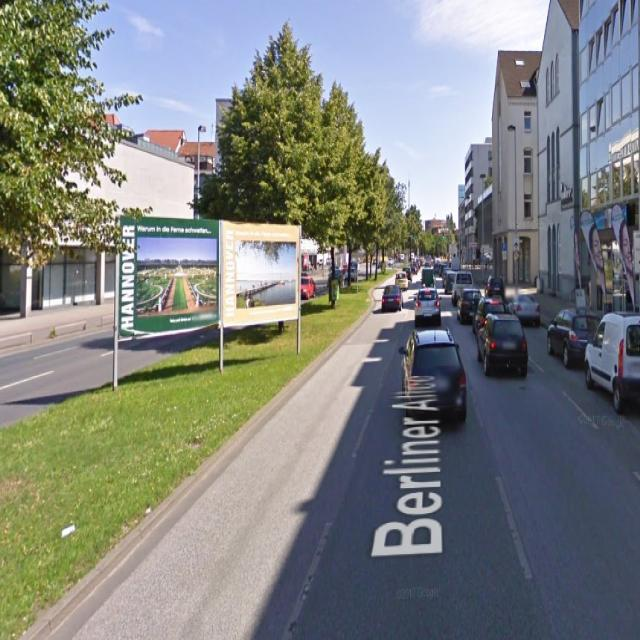Werbetafel frei: (117, 216, 302, 344)
